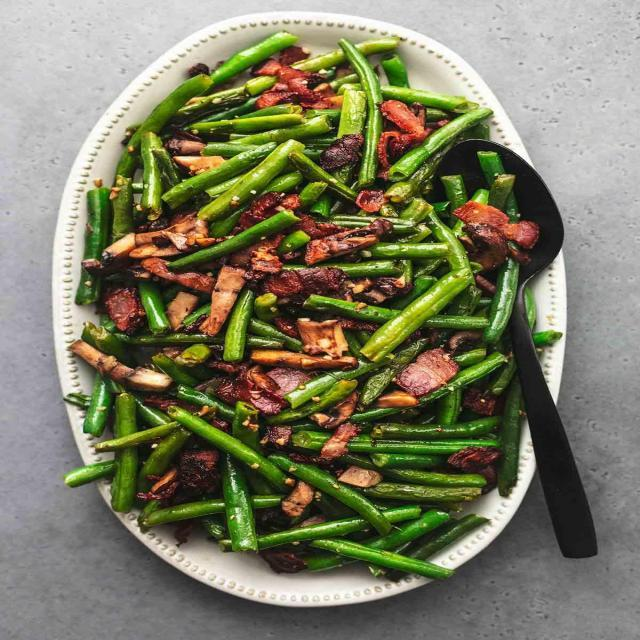Beans: (64, 28, 551, 579)
